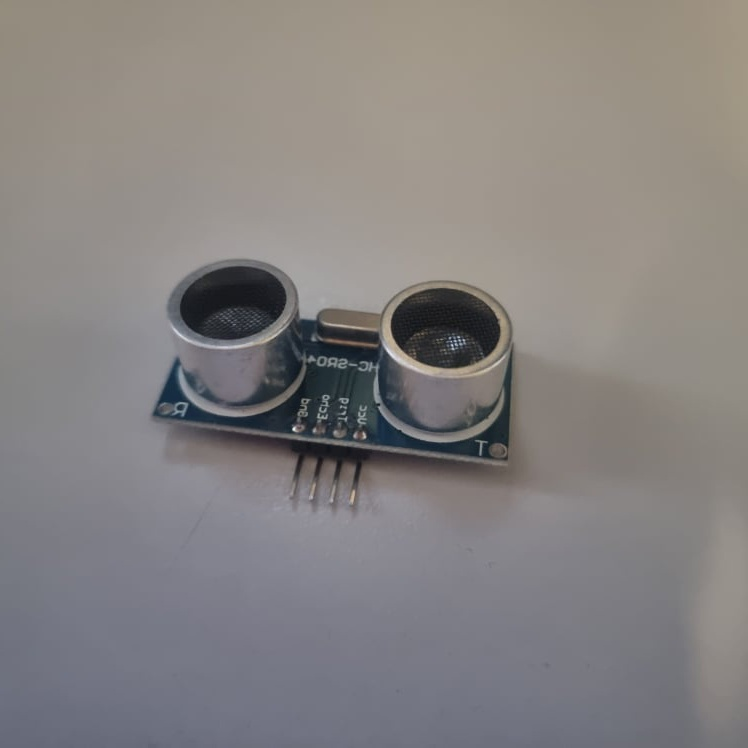SENSOR: (146, 259, 513, 503)
